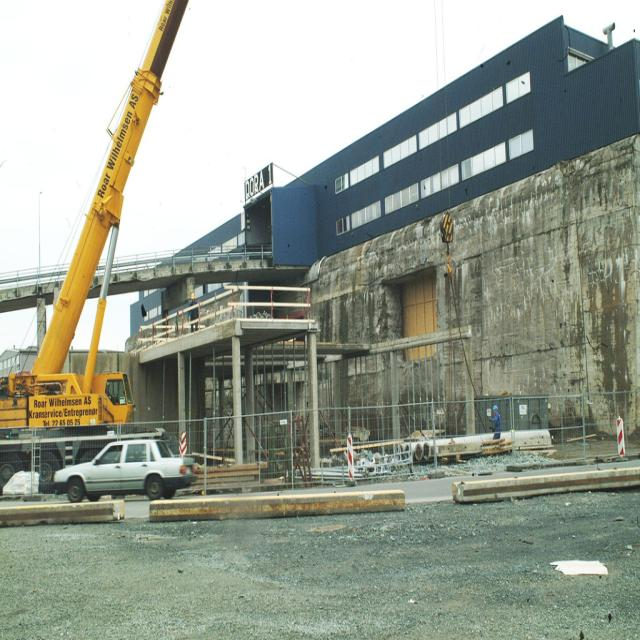car: (51, 438, 198, 501)
